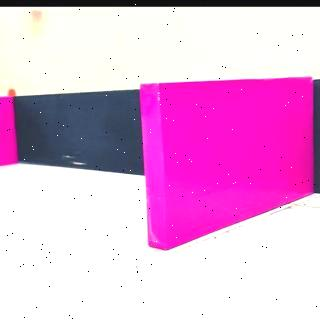xparking: (150, 84, 312, 222), (2, 98, 10, 166)
